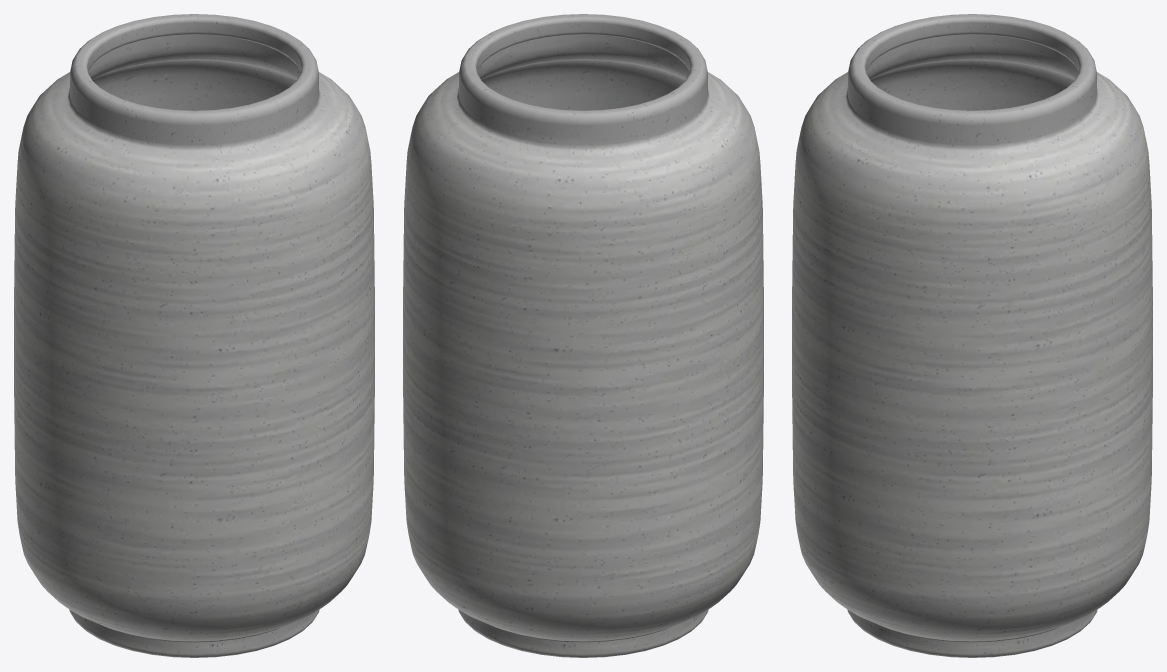
3 renders of one model, left to right at view 1: azimuth 30°, elevation 25°; view 2: azimuth 150°, elevation 25°; view 3: azimuth 270°, elevation 25°, orthographic.
Parts seen in each view (by area): view 1: RootNode; view 2: RootNode; view 3: RootNode.
Part boxes in pixels (left/top/right/bottom): RootNode: left=14, top=14, right=374, bottom=657; RootNode: left=403, top=14, right=763, bottom=657; RootNode: left=792, top=14, right=1152, bottom=657.
Bounding box in the file's own units: 0.2021 × 0.3354 × 0.2021.
1 material, 1 textured.
